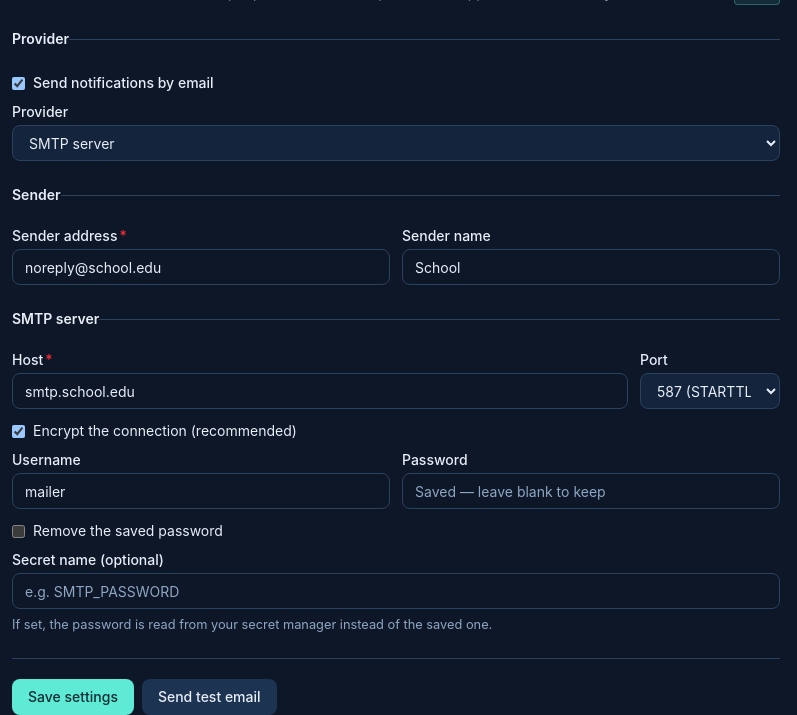
Test: IntegrationsPage › saves with the same request body as before
The image size is (797, 715).
(page scrolled)
Check: the field labelled "Host" is shown, box [12,373,628,409]
Click the button "Save settings": (73, 697) [12,679,134,714]
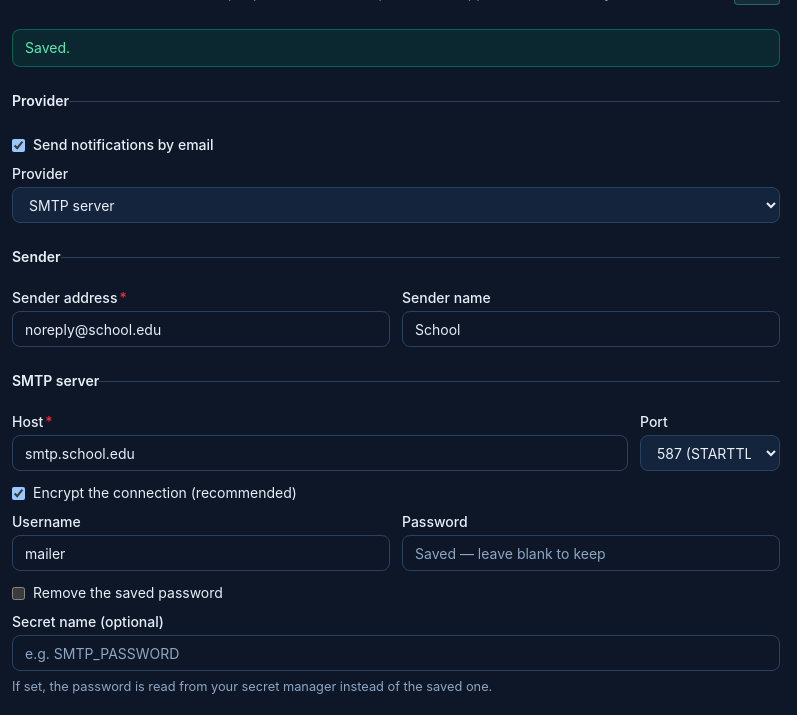
Check: the text "Saved." is shown, box [12,29,780,67]
